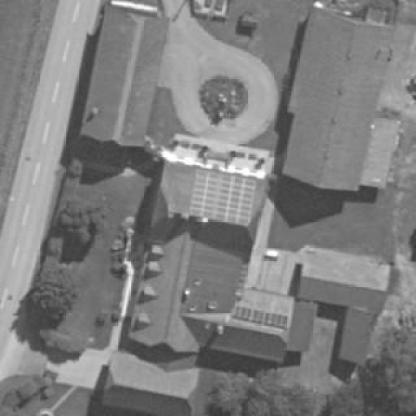solar-pv-panel: (191, 171, 257, 225), (234, 306, 290, 327), (236, 262, 250, 297)
